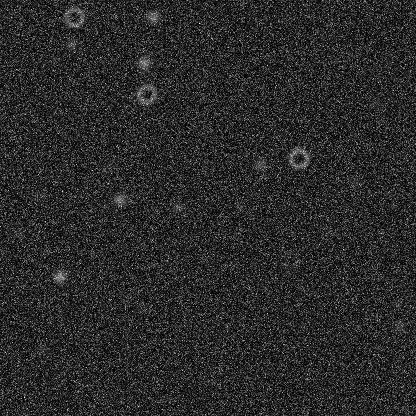Ring: (286, 146, 310, 170), (278, 247, 302, 271), (62, 4, 86, 28), (134, 82, 158, 106)
Spot: (111, 191, 127, 207), (391, 317, 407, 333), (197, 373, 213, 389), (133, 299, 149, 315), (30, 188, 46, 204), (346, 173, 362, 189), (194, 123, 210, 139), (135, 55, 151, 71), (51, 268, 67, 284), (367, 95, 383, 111), (11, 225, 27, 241), (99, 160, 115, 176), (169, 198, 185, 214), (63, 36, 79, 52), (252, 156, 268, 172), (389, 299, 405, 315), (145, 8, 161, 24), (34, 341, 50, 357)
